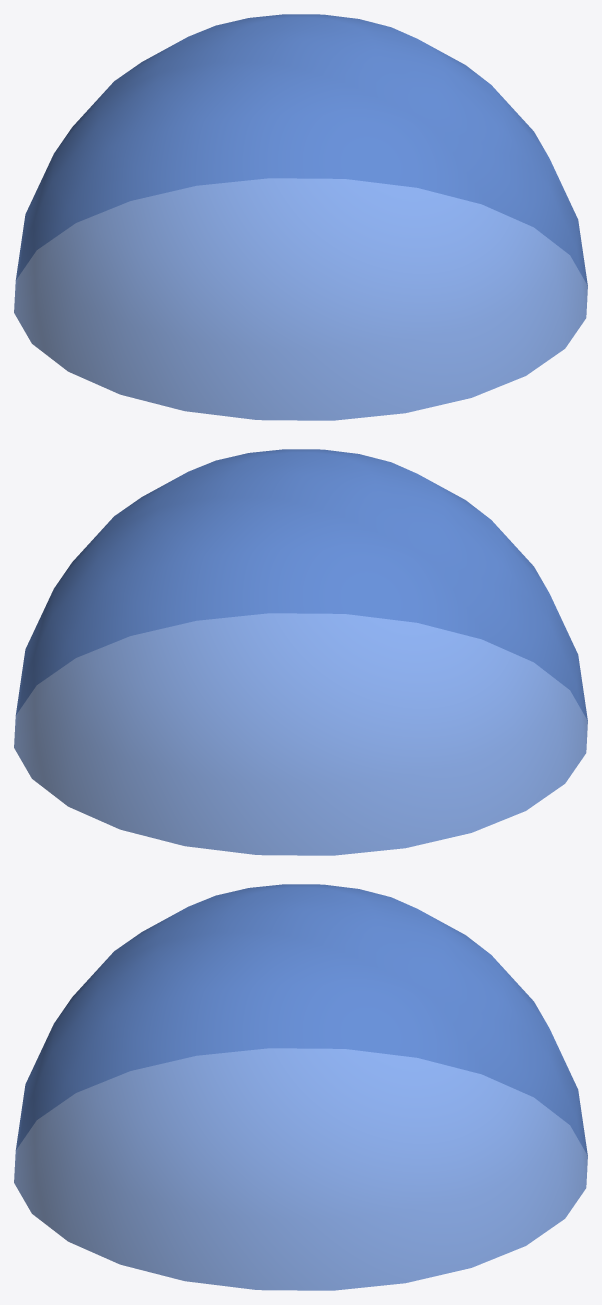
Rendered from dome-thin.dae.
3 renders of one model, top to bottom at view 1: azimuth 30°, elevation 25°; view 2: azimuth 150°, elevation 25°; view 3: azimuth 270°, elevation 25°, orthographic.
Parts seen in each view (by area): view 1: SketchUp; view 2: SketchUp; view 3: SketchUp.
Part boxes in pixels (left/top/right/bottom): SketchUp: left=14, top=14, right=587, bottom=420; SketchUp: left=14, top=449, right=587, bottom=855; SketchUp: left=14, top=884, right=587, bottom=1290.
Bounding box in the file's own units: 312 × 312 × 155.
